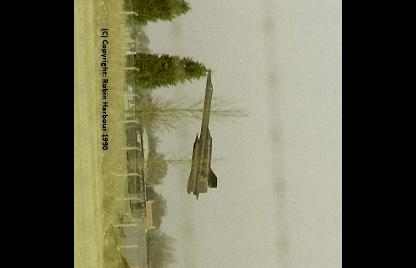Rafale: (188, 65, 218, 199)
